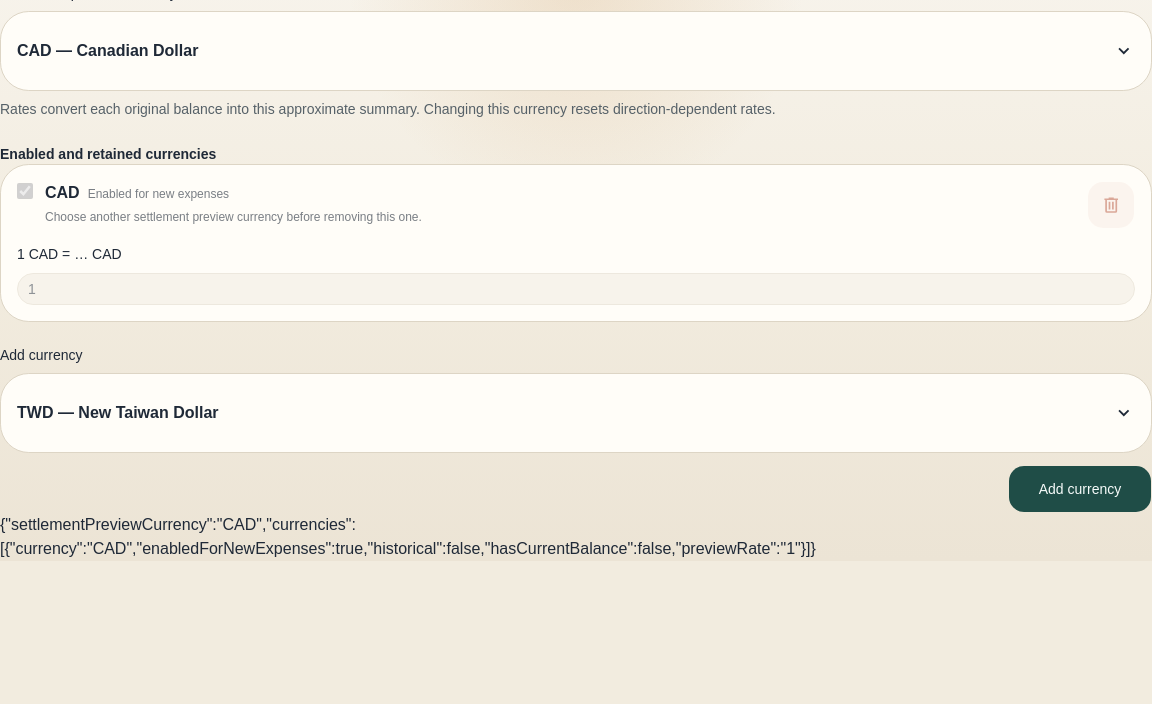
Scenario: CurrencySettingsEditor › requests only a newly selected currency and merges it into the cache
Step 1. Click the button "Add currency" → (1080, 489), box [1008, 465, 1151, 513]
(page scrolled)
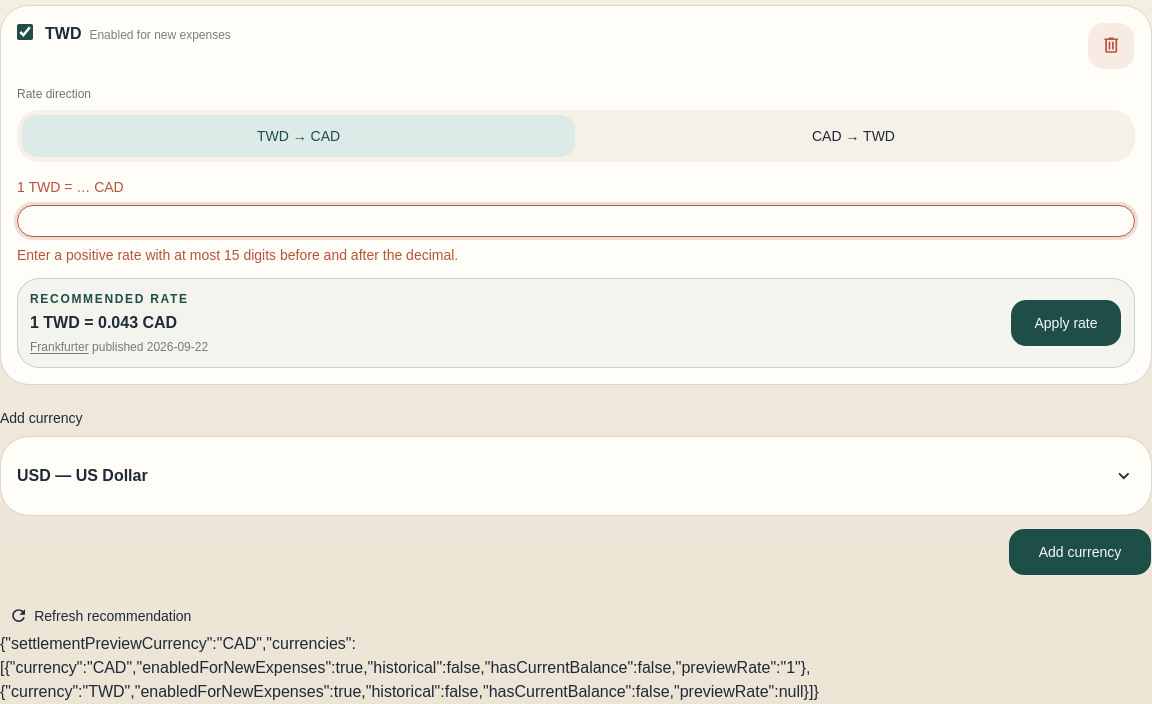
Now the text "TWD" is shown, box [45, 24, 81, 42]
Step 2. Click the button "Add currency" → (1080, 552), box [1008, 528, 1151, 576]
(page scrolled)
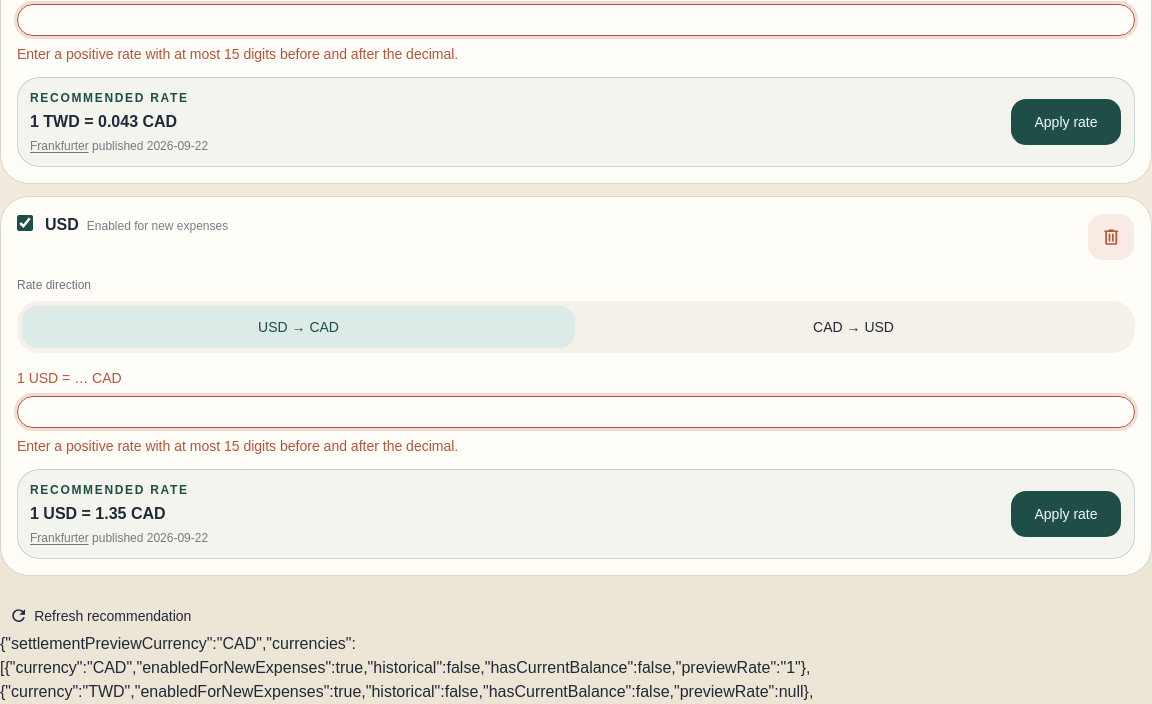
Now the text "USD" is shown, box [45, 216, 79, 233]
